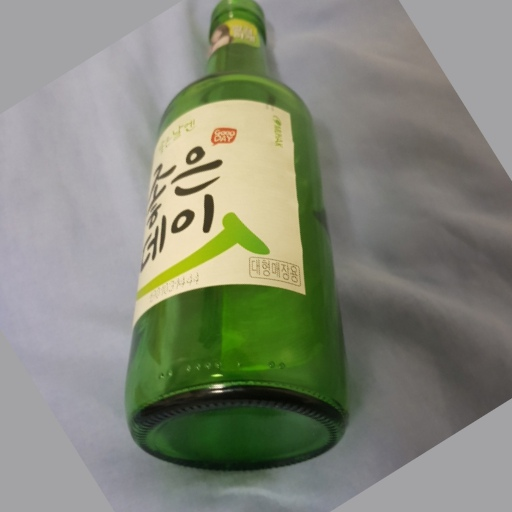Glass_0: (122, 2, 351, 469)
